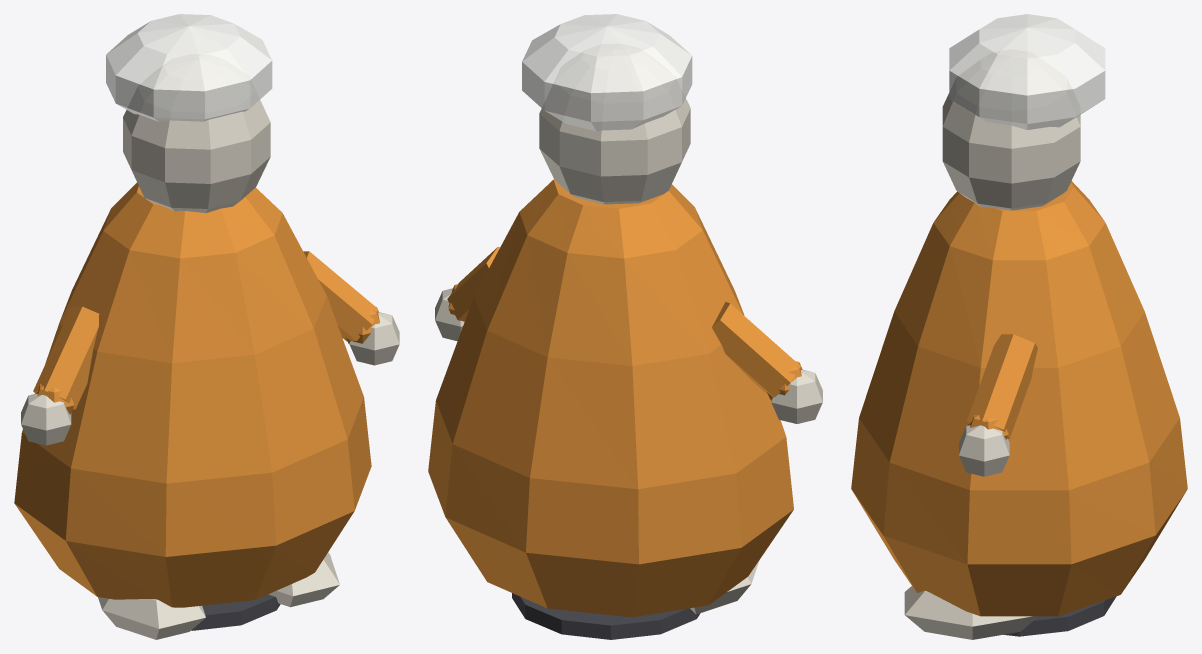
Rendered from npc_maniqui.glb.
3 views of the same model, side by side, from view 1: azimuth 30°, elevation 25°; view 2: azimuth 150°, elevation 25°; view 3: azimuth 270°, elevation 25° (orthographic). The views are drawn at different scales.
Parts seen in each view (by area): view 1: body_ghost_coat, cap_hairnet, head_mannequin_skin, arms_ghost_coat, legs_mannequin_feet, arms_mannequin_skin, props_mannequin_stand; view 2: body_ghost_coat, cap_hairnet, head_mannequin_skin, arms_ghost_coat, props_mannequin_stand, arms_mannequin_skin, legs_mannequin_feet; view 3: body_ghost_coat, cap_hairnet, head_mannequin_skin, arms_ghost_coat, legs_mannequin_feet, arms_mannequin_skin, props_mannequin_stand.
Boxes of the visible parts, x1,y1,x2,y2 form: body_ghost_coat: [14, 182, 371, 607]; cap_hairnet: [106, 14, 272, 121]; head_mannequin_skin: [123, 55, 270, 213]; arms_ghost_coat: [33, 251, 379, 414]; legs_mannequin_feet: [98, 552, 339, 639]; arms_mannequin_skin: [21, 312, 399, 445]; props_mannequin_stand: [191, 594, 280, 630]; body_ghost_coat: [428, 179, 793, 617]; cap_hairnet: [522, 14, 692, 131]; head_mannequin_skin: [539, 45, 690, 204]; arms_ghost_coat: [447, 246, 802, 399]; props_mannequin_stand: [512, 593, 700, 639]; arms_mannequin_skin: [435, 288, 822, 423]; legs_mannequin_feet: [690, 560, 759, 614]; body_ghost_coat: [851, 181, 1187, 616]; cap_hairnet: [949, 14, 1105, 129]; head_mannequin_skin: [942, 50, 1080, 210]; arms_ghost_coat: [966, 334, 1037, 439]; legs_mannequin_feet: [904, 586, 1038, 639]; arms_mannequin_skin: [959, 425, 1009, 476]; props_mannequin_stand: [1003, 596, 1116, 636].
Bounding box in the file's own units: 1.13 × 1.61 × 0.86.
